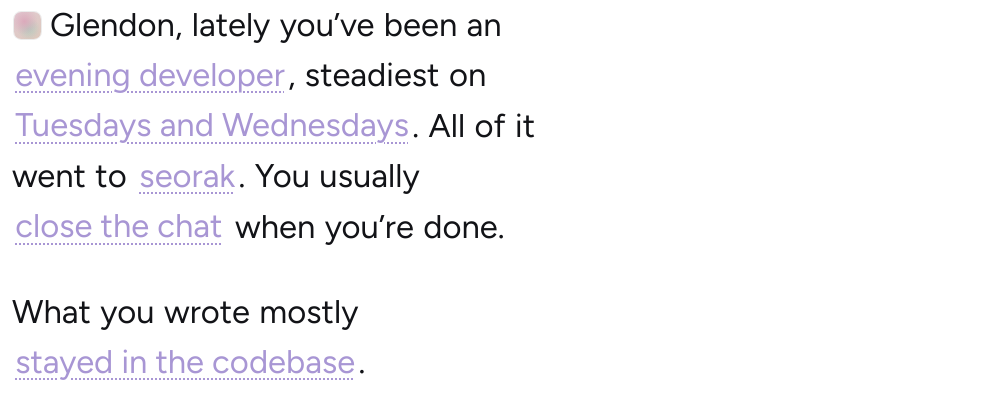
Test: ModelNarrativeRead › peek shows the gist, pinning shows the evidence › pinning replaces the gist with the counts and the boundary
Click the button "evening developer".
click(150, 74)  # box [12,49,288,100]
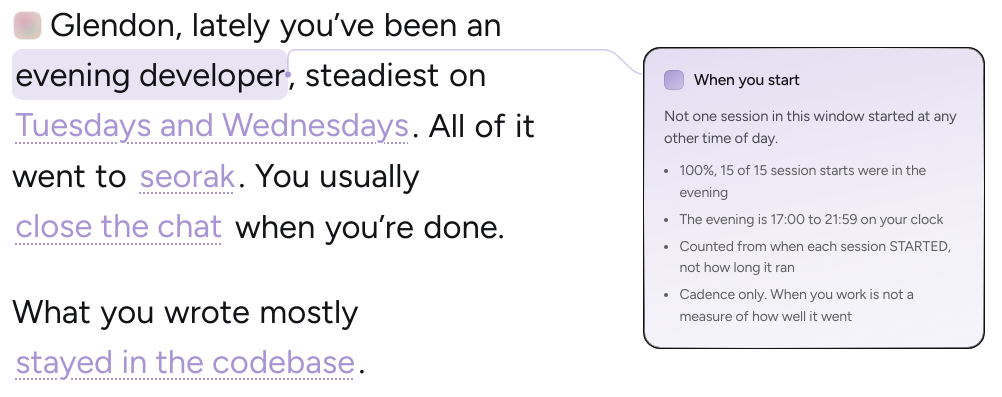
Expected: the element named "When you start" shows "17:00 to 21:59", [680,211,943,228]
Expected: the element named "When you start" shows "when each session STARTED", [680,238,951,276]
